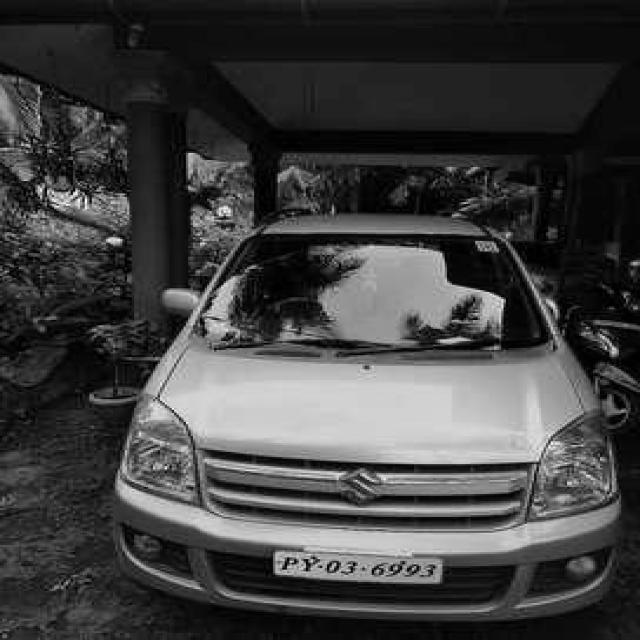car: (101, 202, 631, 640)
license-plate: (271, 549, 447, 589)
